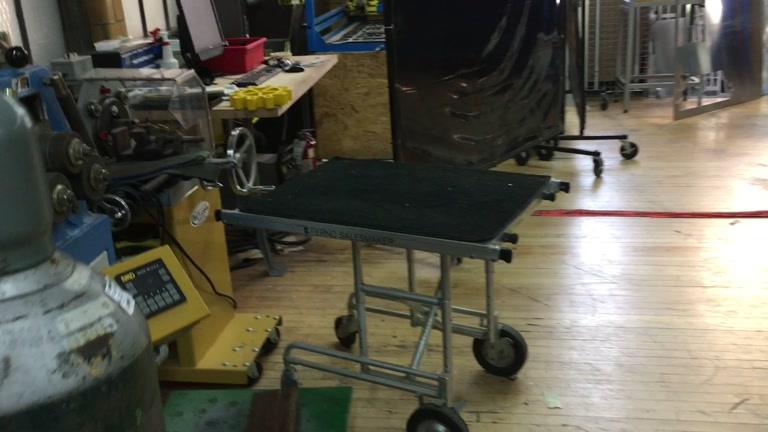gear: (229, 82, 293, 110)
